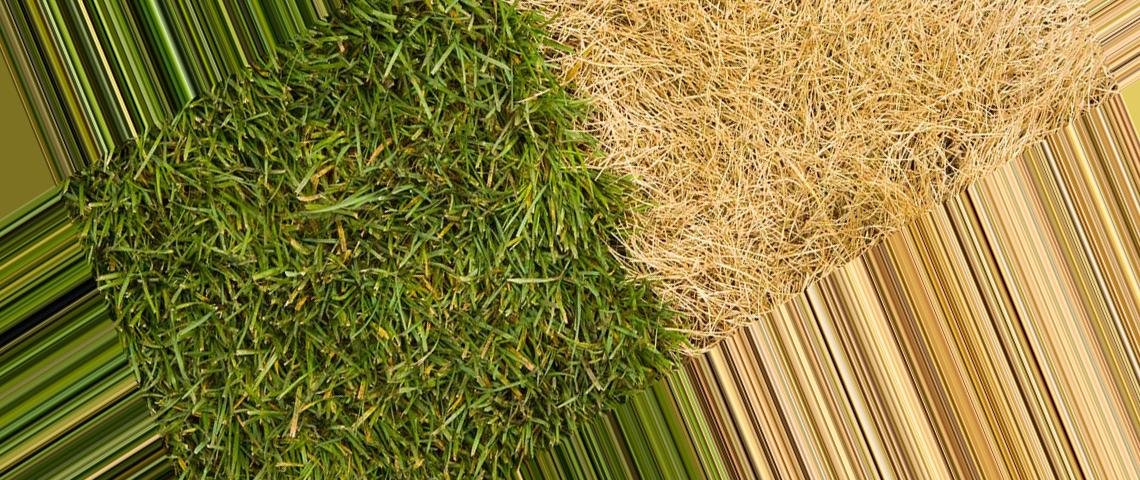patch: (604, 4, 880, 172), (915, 15, 1032, 124), (667, 200, 791, 300)
